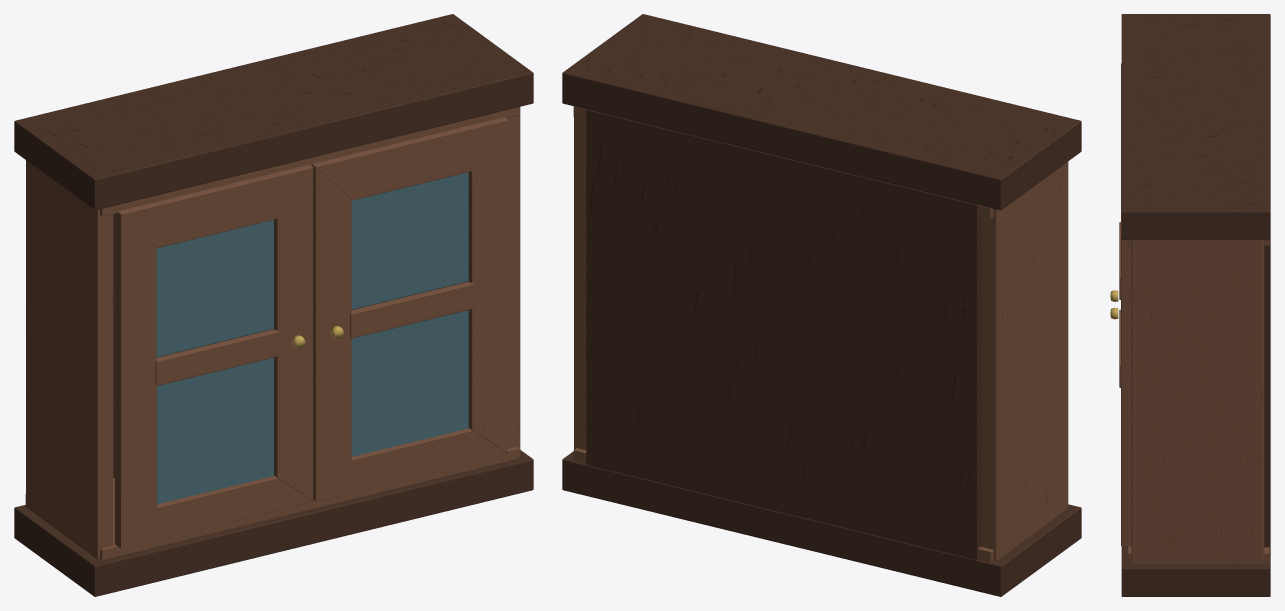
File: WallCabinet_FUR06_C3m_passthrough_bpy43.fbx
3 views of the same model, side by side, from view 1: azimuth 30°, elevation 25°; view 2: azimuth 150°, elevation 25°; view 3: azimuth 270°, elevation 25° (orthographic). The views are drawn at different scales.
Visible parts, largest first — view 1: WallCabinet; view 2: WallCabinet; view 3: WallCabinet.
Part boxes in pixels (left/top/right/bottom): WallCabinet: left=14, top=14, right=533, bottom=596; WallCabinet: left=562, top=14, right=1081, bottom=596; WallCabinet: left=1110, top=14, right=1270, bottom=596.
Size of the model in its own units: 0.88 by 0.8 by 0.301.
Materials: 1 (1 with a texture image).
